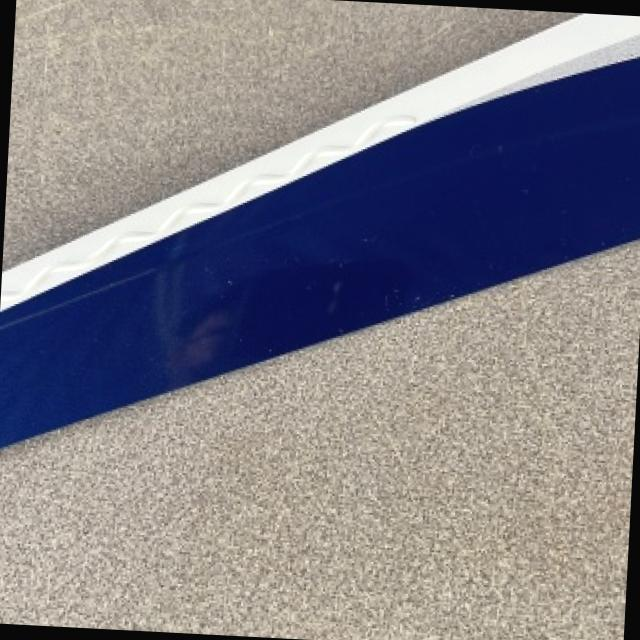healthy: (0, 14, 640, 442), (0, 239, 640, 640)
